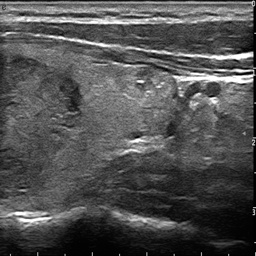mass: (126, 69, 176, 109)
